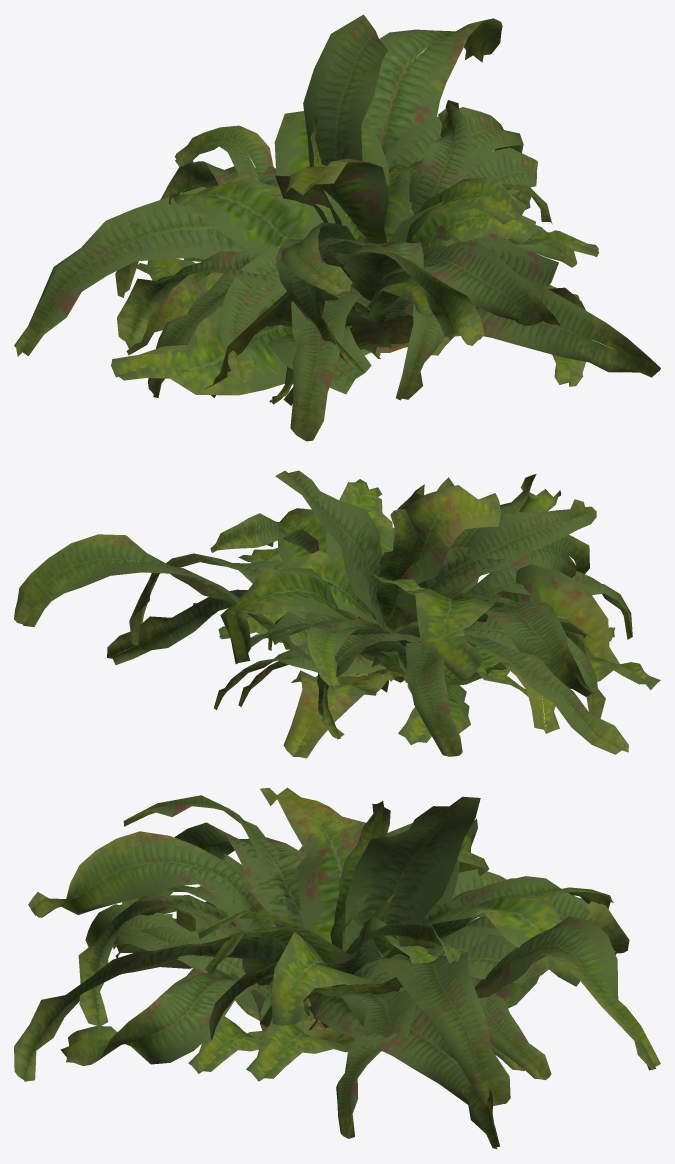
File: ph_fern_02.glb
The picture shows the model from 3 angles, top to bottom: view 1: azimuth 30°, elevation 25°; view 2: azimuth 150°, elevation 25°; view 3: azimuth 270°, elevation 25°; orthographic projection. The views are drawn at different scales.
Visible parts, largest first — view 1: v0, v1, v2, v3; view 2: v0, v1, v3, v2; view 3: v0, v1, v3, v2.
Part boxes in pixels (x1,y1,x2,y2): v0: [14, 14, 660, 441]; v1: [111, 116, 591, 405]; v2: [137, 238, 579, 404]; v3: [198, 100, 558, 355]; v0: [14, 470, 632, 758]; v1: [107, 477, 660, 756]; v3: [210, 513, 528, 709]; v2: [268, 554, 615, 744]; v0: [14, 787, 660, 1138]; v1: [61, 795, 613, 1149]; v3: [115, 893, 551, 1080]; v2: [127, 898, 407, 1073].
Size of the model in its own units: 0.9897 by 0.4277 by 0.8937.
Materials: 1 (1 with a texture image).
